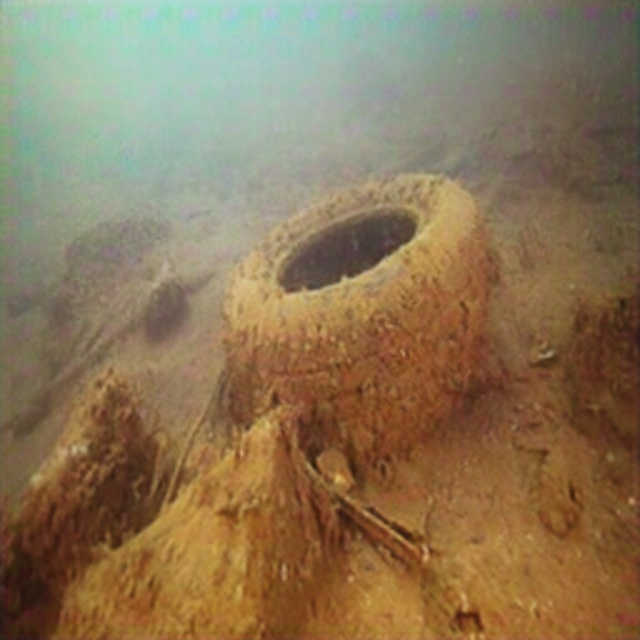mine: (221, 172, 482, 445)
